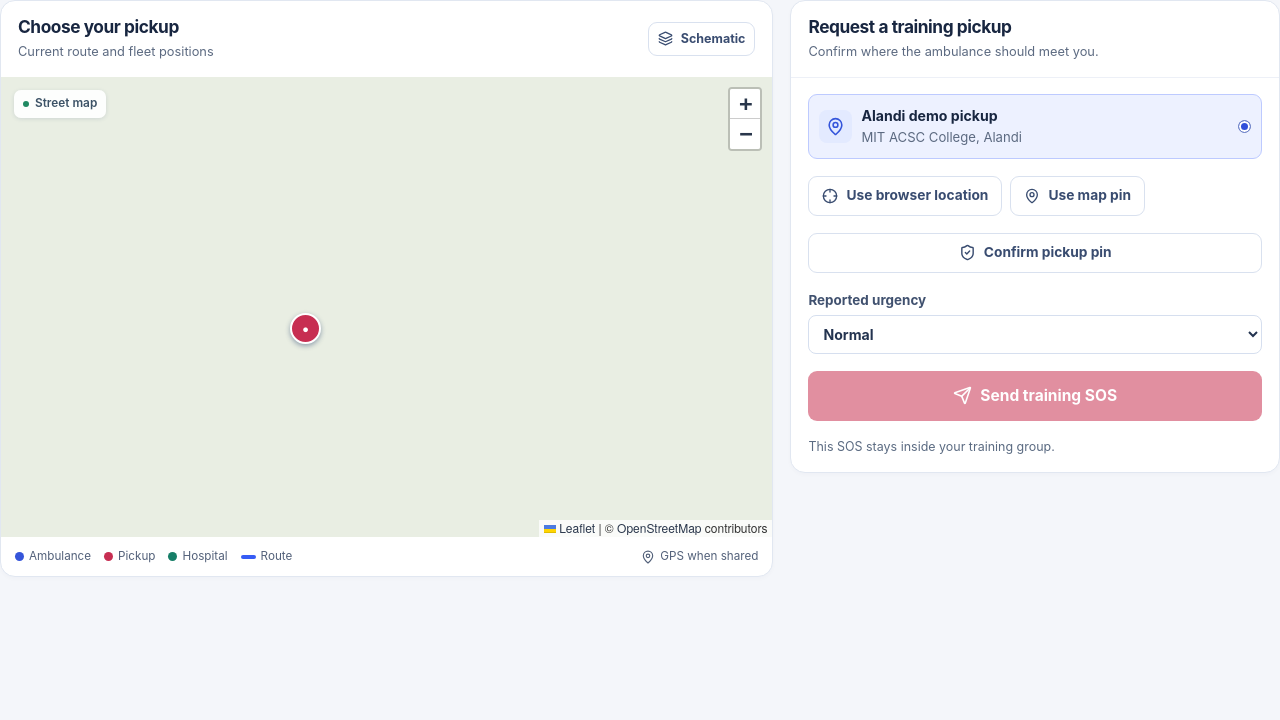
patient confirms a pin before asking for dispatch and cannot double-click a pending SOS
Later steps or results of the test are not shown.
Expected: the button "Send training SOS" is disabled, 808,371 -> 1262,421
Step 1. Click the button "Confirm pickup pin" → coordinates (1035, 253), box 808,233 -> 1262,273
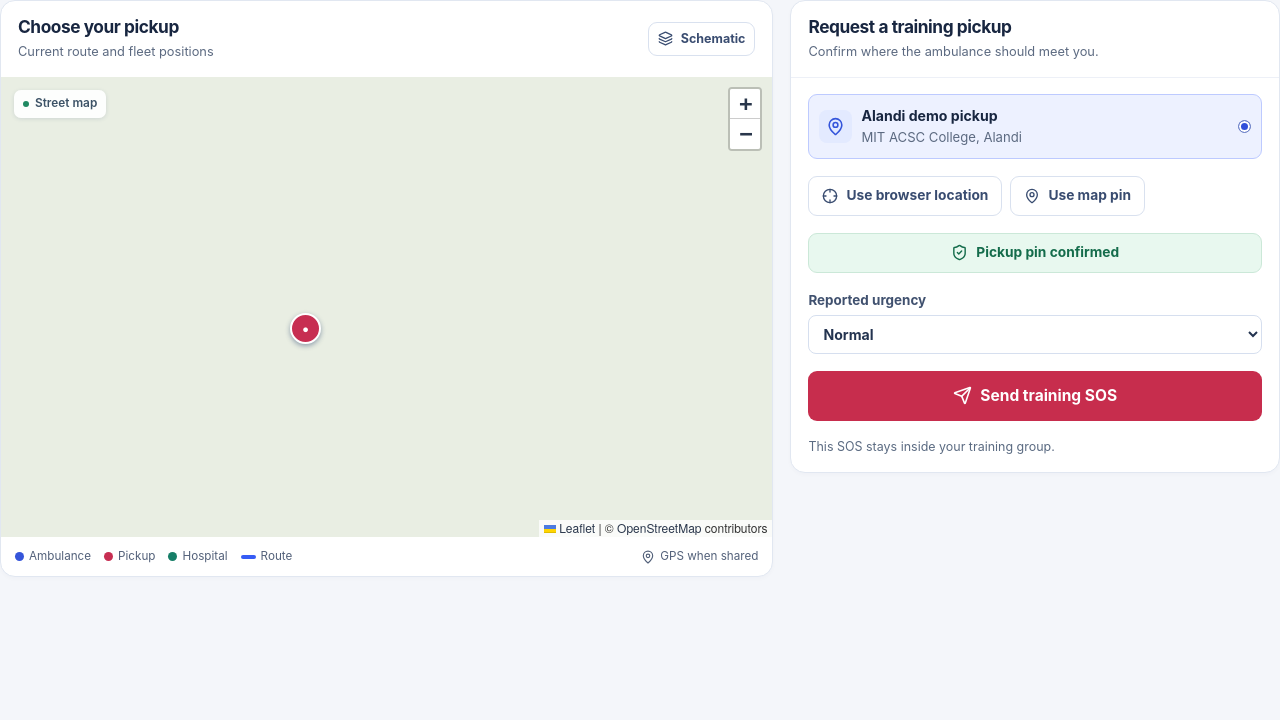
Expected: the button "Send training SOS" is enabled, 808,371 -> 1262,421
